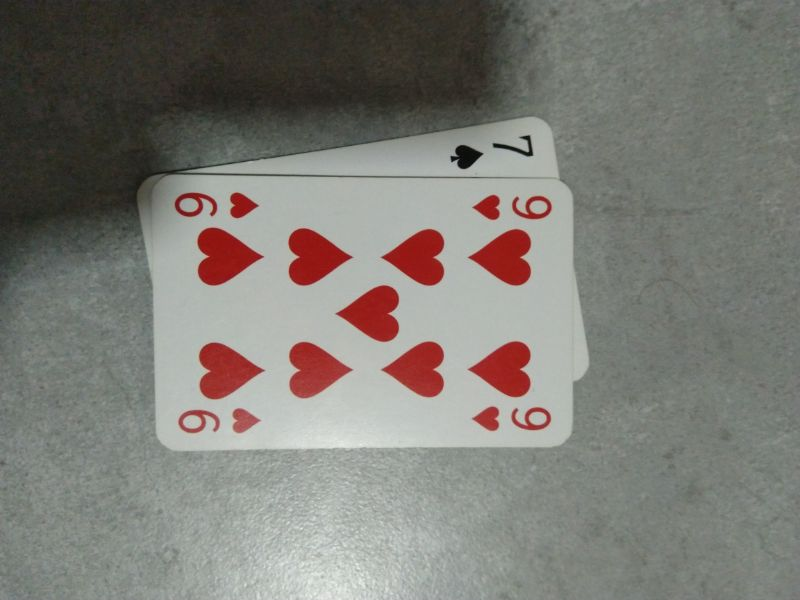7s: (446, 128, 538, 171)
9h: (469, 189, 556, 226), (467, 401, 556, 435), (170, 187, 261, 220), (174, 406, 265, 434)
